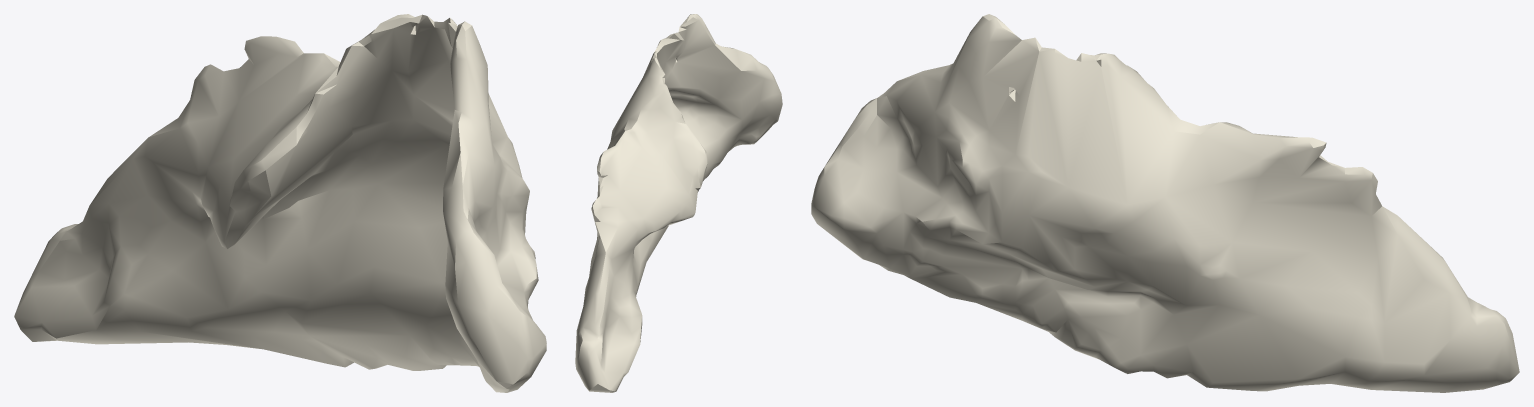
Rendered from fma54737.glb.
3 renders of one model, left to right at view 1: azimuth 30°, elevation 25°; view 2: azimuth 150°, elevation 25°; view 3: azimuth 270°, elevation 25°, orthographic. The views are drawn at different scales.
Parts seen in each view (by area): view 1: FMA54737; view 2: FMA54737; view 3: FMA54737.
Part boxes in pixels (box(x1,y1,x2,y2)): FMA54737: box(14, 14, 546, 392); FMA54737: box(575, 14, 782, 392); FMA54737: box(811, 14, 1519, 392).
Bounding box in the file's own units: 0.0102 × 0.0218 × 0.0335.
